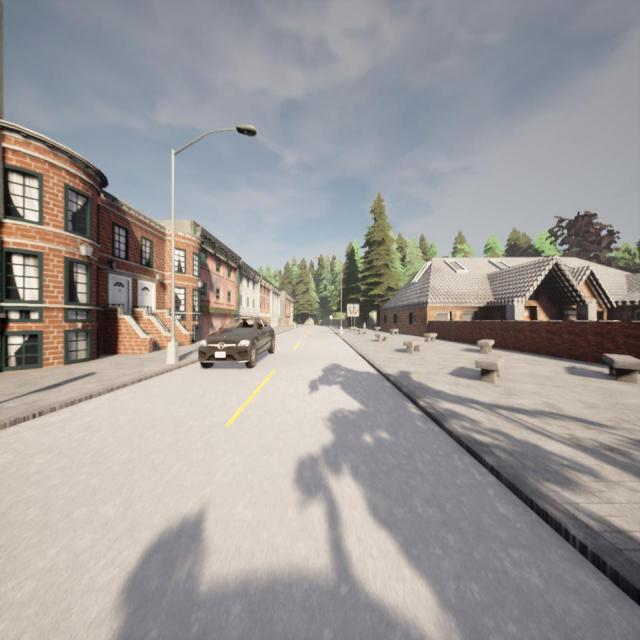Traffic_Signs: (329, 315, 333, 319)
Vehicle: (199, 317, 275, 367)
